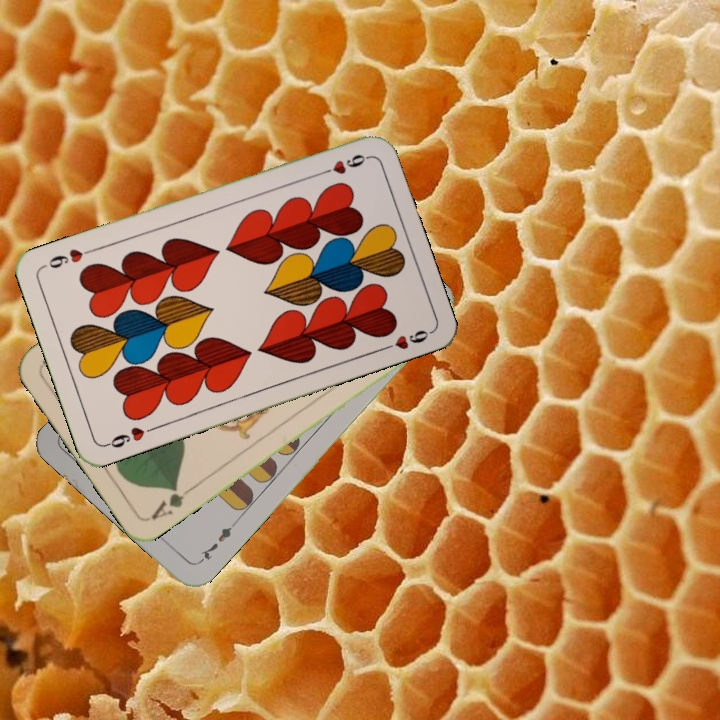E7: (195, 519, 237, 566)
GA: (146, 481, 197, 523)
H9: (101, 422, 158, 451), (314, 150, 371, 179)
